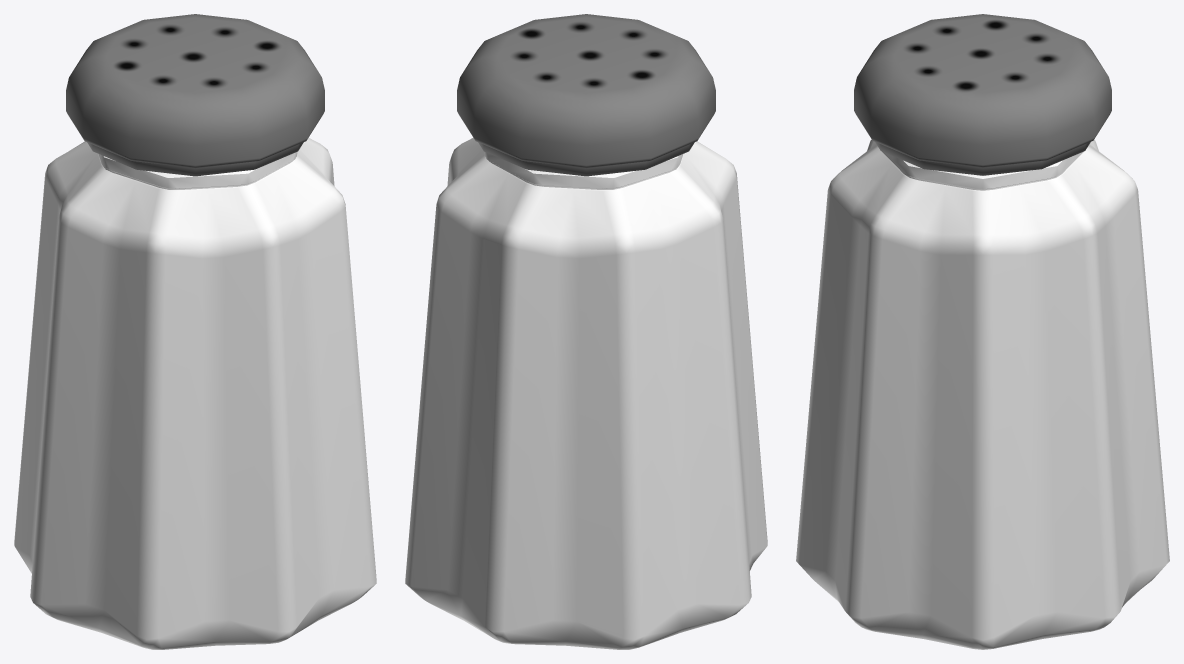
File: PR_saltShaker.fbx
The picture shows the model from 3 angles, left to right: view 1: azimuth 30°, elevation 25°; view 2: azimuth 150°, elevation 25°; view 3: azimuth 270°, elevation 25°; orthographic projection.
Parts seen in each view (by area): view 1: saltShaker; view 2: saltShaker; view 3: saltShaker.
Boxes of the visible parts, x1,y1,x2,y2 form: saltShaker: (14,14,376,649); saltShaker: (405,14,767,649); saltShaker: (796,14,1169,649).
Size of the model in its own units: 718 by 1115 by 718.
Materials: 1 (1 with a texture image).
